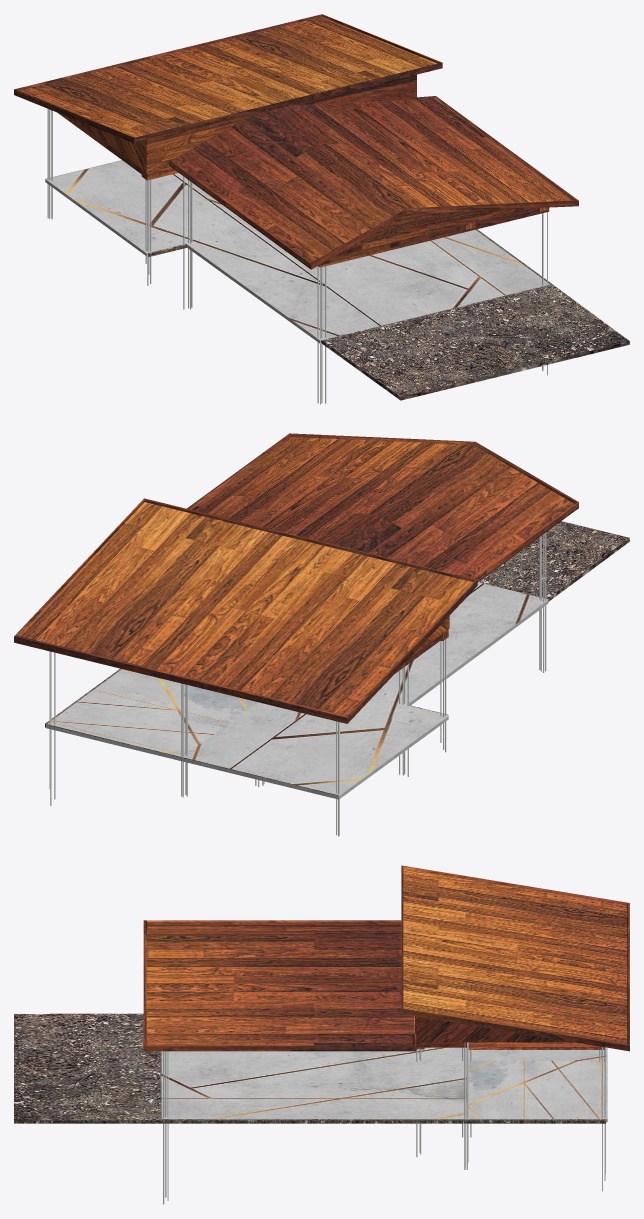
Rendered from Roof.fbx.
3 renders of one model, top to bottom at view 1: azimuth 30°, elevation 25°; view 2: azimuth 150°, elevation 25°; view 3: azimuth 270°, elevation 25°, orthographic. The views are drawn at different scales.
Parts seen in each view (by area): view 1: Roof, Floor, Floor.002; view 2: Roof, Floor, Floor.002; view 3: Roof, Floor, Floor.002.
Boxes of the visible parts, <box> form: Roof: <box>14,14,578,269</box>; Floor: <box>45,160,550,343</box>; Floor.002: <box>148,229,629,400</box>; Roof: <box>14,433,578,723</box>; Floor: <box>46,582,548,799</box>; Floor.002: <box>45,521,629,795</box>; Roof: <box>143,865,629,1051</box>; Floor: <box>161,1047,607,1122</box>; Floor.002: <box>14,1013,605,1123</box>.
Bounding box in the file's own units: 1148 × 800 × 2083.
6 materials, 5 textured.
